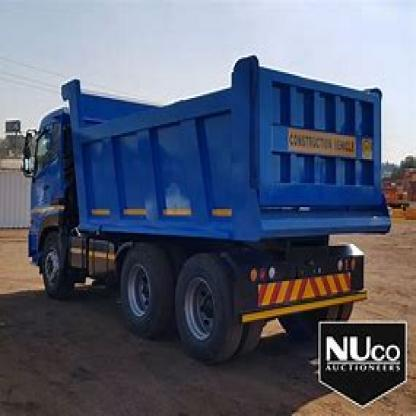dump_truck: (16, 58, 397, 360)
